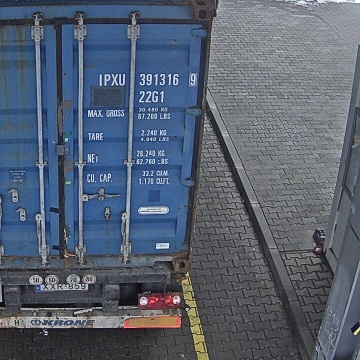serial_id: (99, 73, 196, 86)
